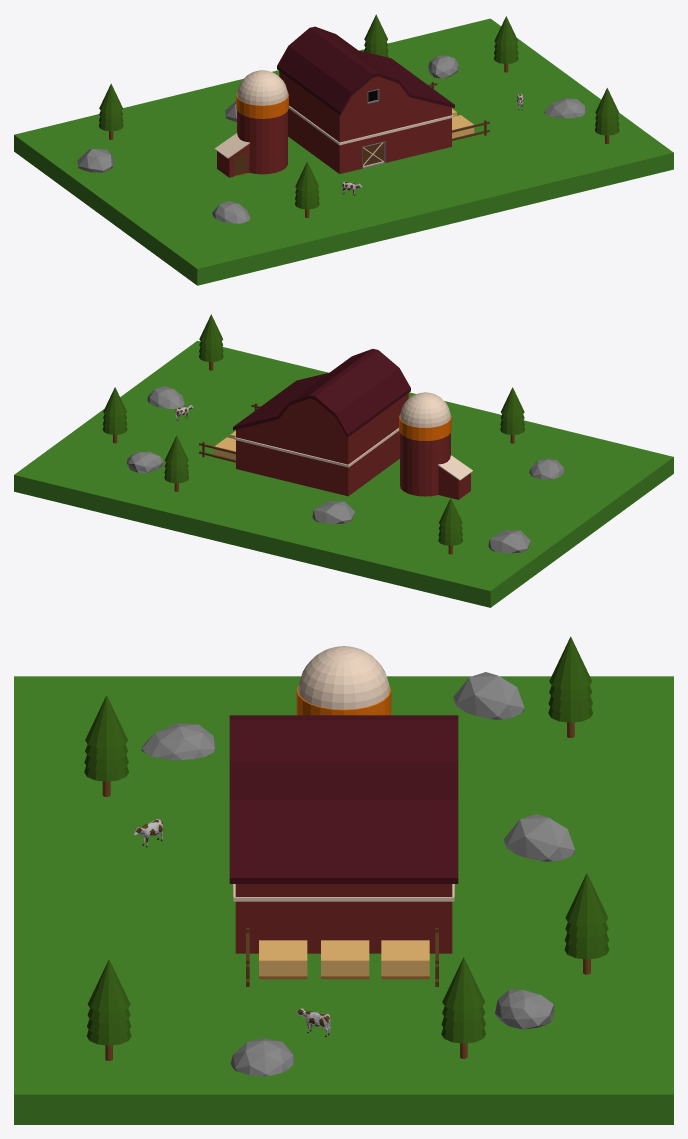
The model's file is Farm.fbx.
3 views of the same model, one above another, from view 1: azimuth 30°, elevation 25°; view 2: azimuth 150°, elevation 25°; view 3: azimuth 270°, elevation 25° (orthographic). The views are drawn at different scales.
Visible parts, largest first — view 1: base.004, main building.004, silo, tree 3, tree 3.003, tree 3.004, tree 3.001, rock 5.001, tree 3.002, rock2, rock 4.001, rock3; view 2: base.004, main building.004, silo, tree 3.003, tree 3.001, tree 3.004, tree 3.002, tree 3, rock 5.001, rock 1, rock2, rock3 (+1 smaller); view 3: base.004, main building.004, hey stacs, silo, tree 3, tree 3.002, tree 3.003, tree 3.004, tree 3.001, rock 5.001, rock 1, rock 4.001 (+2 smaller).
Boxes of the visible parts, box(x1,y1,x2,y2) form: base.004: box(14, 18, 673, 285); main building.004: box(277, 26, 454, 173); silo: box(215, 70, 288, 177); tree 3: box(295, 161, 319, 217); tree 3.003: box(494, 16, 518, 72); tree 3.004: box(595, 88, 619, 143); tree 3.001: box(99, 83, 123, 139); rock 5.001: box(77, 149, 113, 172); tree 3.002: box(364, 14, 388, 57); rock2: box(544, 98, 586, 118); rock 4.001: box(212, 201, 250, 223); rock3: box(428, 55, 458, 78); base.004: box(14, 340, 673, 607); main building.004: box(233, 349, 410, 496); silo: box(399, 392, 472, 499); tree 3.003: box(102, 387, 127, 443); tree 3.001: box(438, 498, 462, 554); tree 3.004: box(199, 314, 223, 370); tree 3.002: box(164, 435, 188, 491); tree 3: box(500, 387, 524, 443); rock 5.001: box(488, 530, 530, 553); rock 1: box(312, 501, 354, 524); rock2: box(147, 386, 184, 408); rock3: box(126, 451, 163, 472); base.004: box(14, 676, 673, 1124); main building.004: box(229, 715, 458, 953); hey stacs: box(259, 940, 429, 979); silo: box(296, 646, 391, 715); tree 3: box(84, 695, 128, 796); tree 3.002: box(564, 873, 609, 974); tree 3.003: box(441, 957, 485, 1058); tree 3.004: box(86, 959, 131, 1060); tree 3.001: box(548, 636, 592, 737); rock 5.001: box(453, 672, 524, 719); rock 1: box(504, 814, 574, 861); rock 4.001: box(141, 723, 215, 759).
Size of the model in its own units: 836 by 185 by 558.
